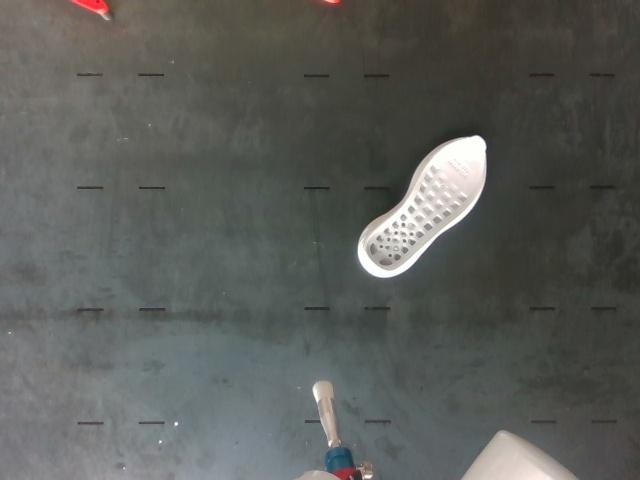shoes: (366, 137, 485, 271)
